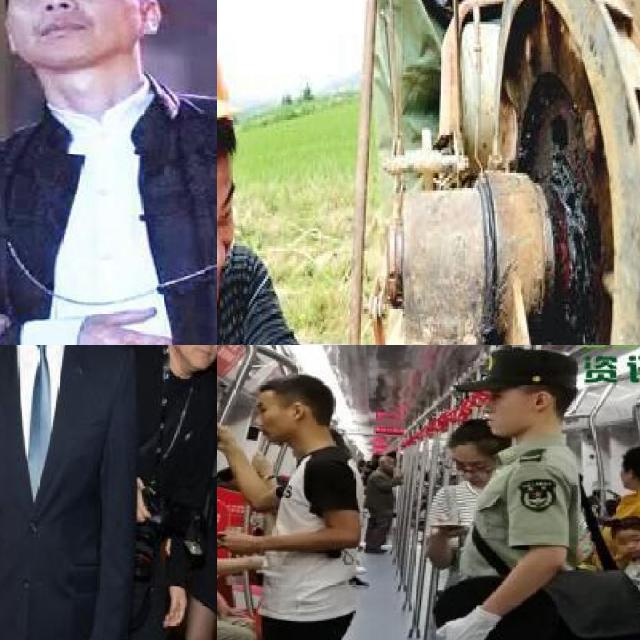No_Ear-Protection: (532, 389, 550, 413), (291, 401, 306, 423)
No_Glasses: (217, 191, 235, 249)
face_nomask: (15, 0, 116, 67), (217, 180, 241, 312), (480, 381, 538, 432), (248, 398, 296, 444), (178, 345, 217, 371), (616, 530, 640, 557)
hand_glove: (435, 611, 499, 640)
hand_noglove: (72, 306, 195, 345), (164, 584, 188, 630), (220, 529, 260, 556), (429, 516, 469, 541), (137, 476, 153, 525), (217, 602, 247, 625), (217, 418, 233, 455)
head_helmet: (217, 21, 244, 174)
head_nohelmet: (488, 347, 588, 398), (441, 410, 501, 456), (260, 362, 330, 395), (607, 516, 640, 536), (622, 441, 640, 470)
person: (0, 0, 217, 345), (427, 353, 610, 640), (217, 32, 352, 345), (239, 345, 379, 640), (0, 345, 136, 640)
